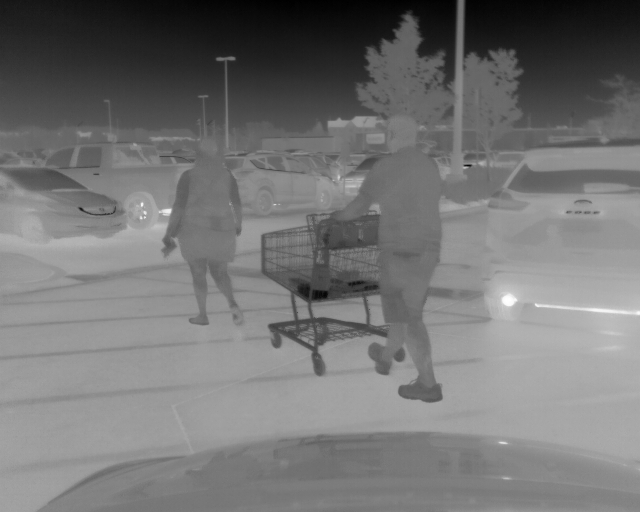car: (481, 137, 640, 325), (38, 141, 197, 233), (1, 167, 128, 247), (224, 148, 342, 218), (343, 153, 393, 202), (463, 148, 498, 171), (431, 154, 457, 184)
people: (331, 114, 446, 404), (161, 137, 244, 325)
